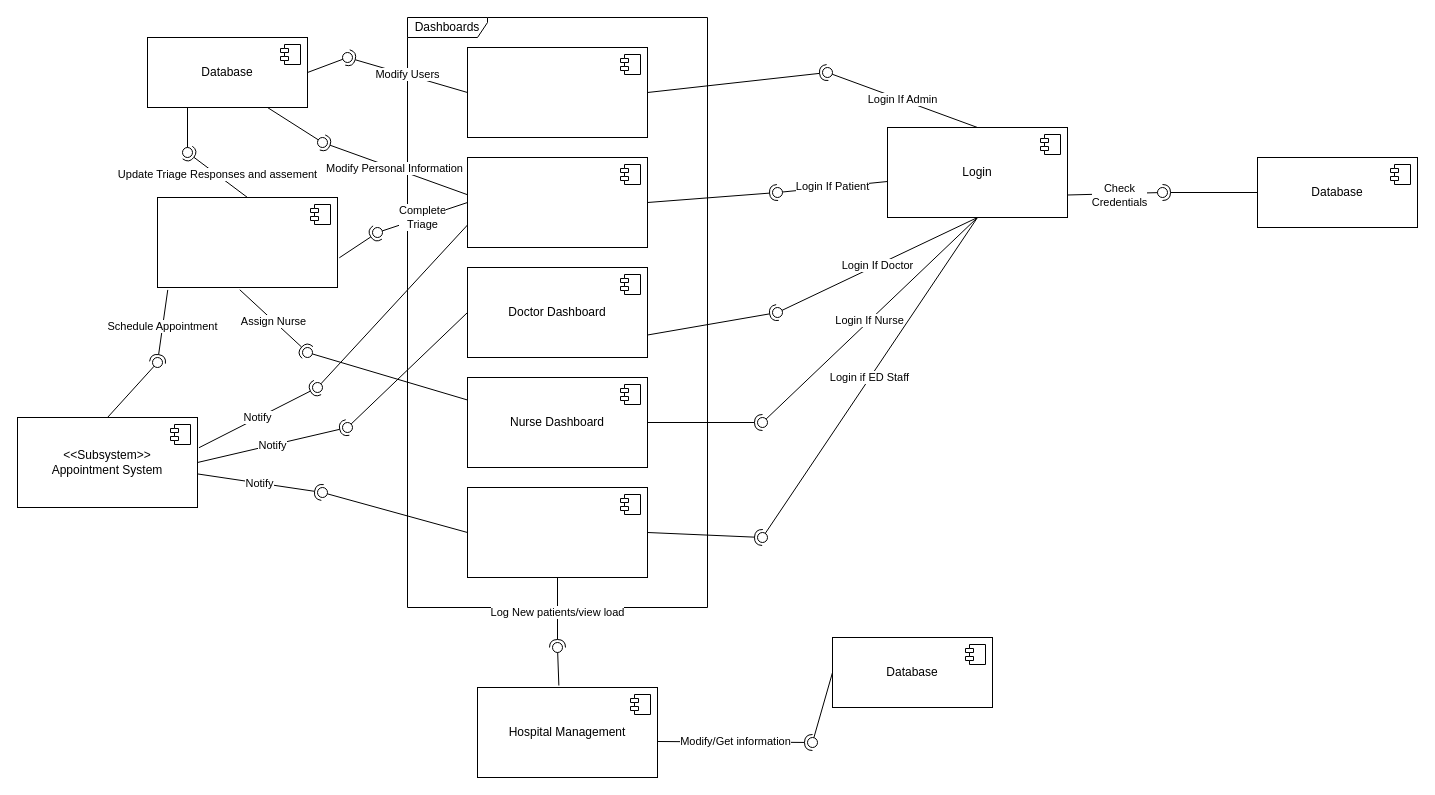
The diagram is 1435 pixels wide and 795 high, and some of its shapes have lost their labels. Here are the shapes that lost their labels. From the top down, the box of each, then its label:
(466, 46, 648, 138): Admin Dashboard
(466, 156, 648, 248): Patient Dashboard
(156, 196, 338, 288): <<Subsystem>> Virtual Triage System
(466, 486, 648, 578): ED Staff Dashboard
